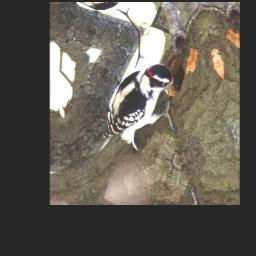Woodpecker: (84, 55, 192, 167)
